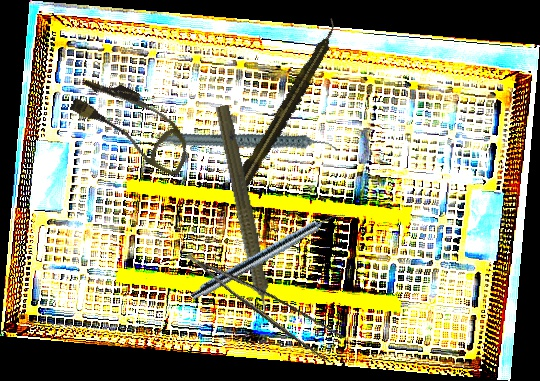Cannula: (63, 69, 203, 178)
Handpiece: (228, 17, 346, 197), (206, 103, 281, 332), (188, 204, 347, 306), (160, 99, 339, 188)
Tissue Forceps: (185, 229, 350, 370)
